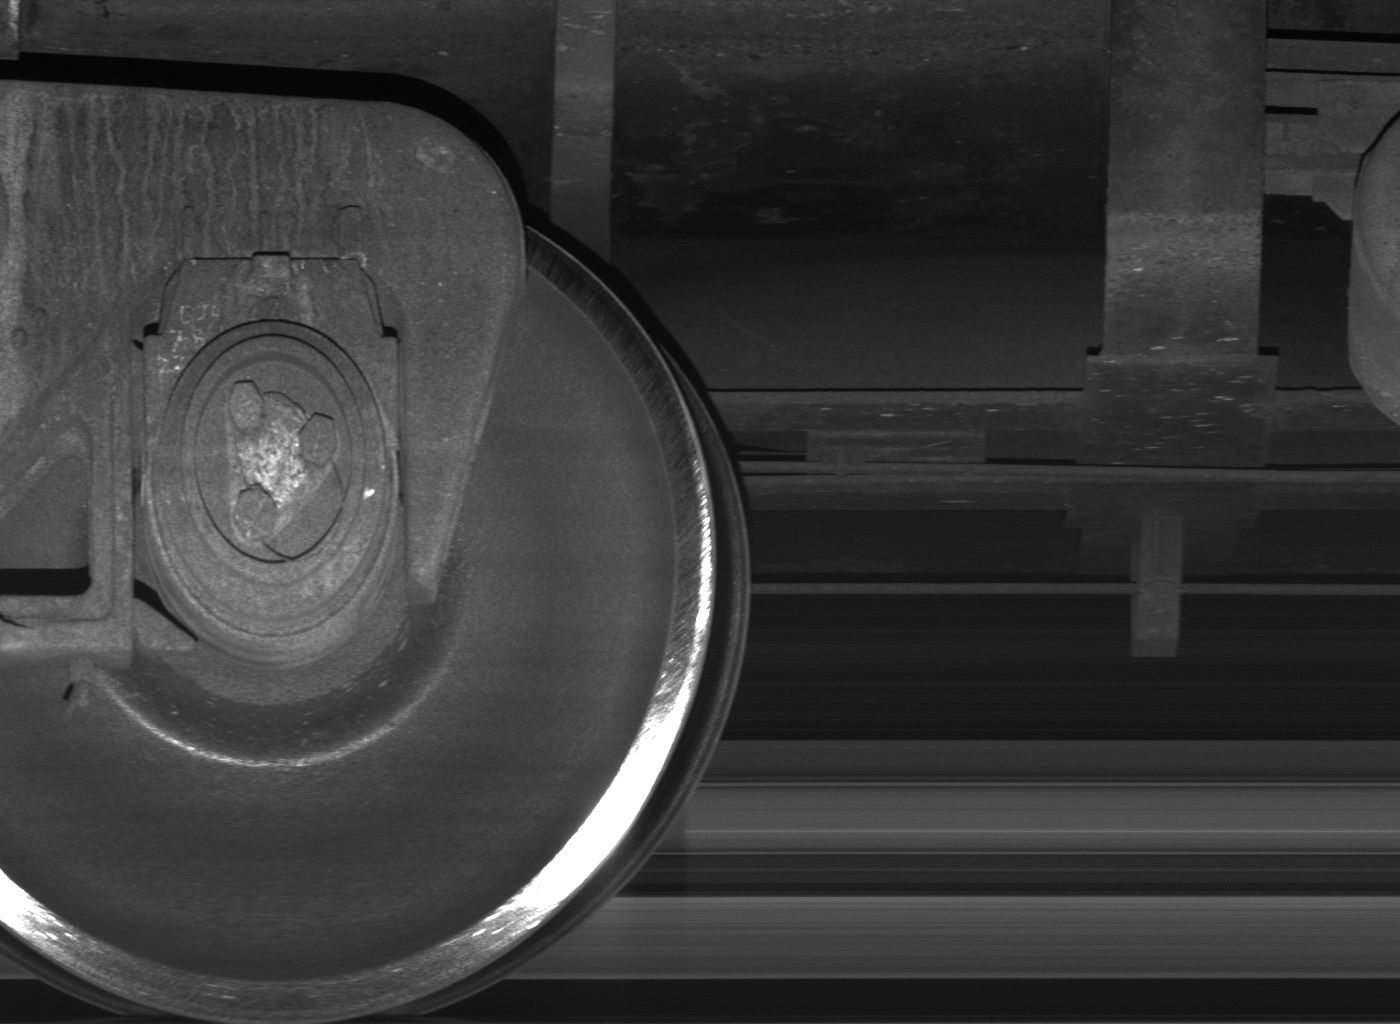normal: (1130, 509, 1184, 658)
